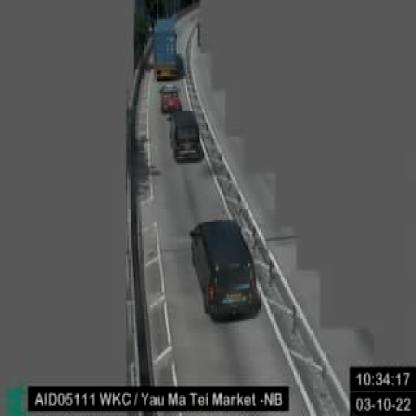Car: (190, 220, 258, 321), (166, 109, 200, 161), (160, 83, 179, 108)
Truck: (152, 19, 177, 78)
